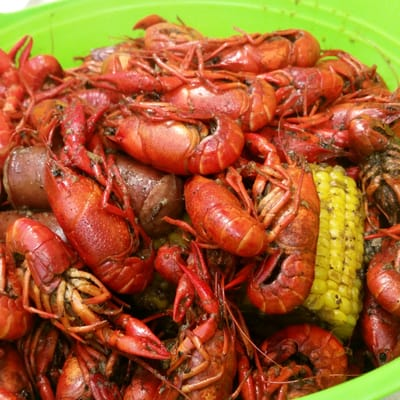pasta: (302, 162, 367, 341)
